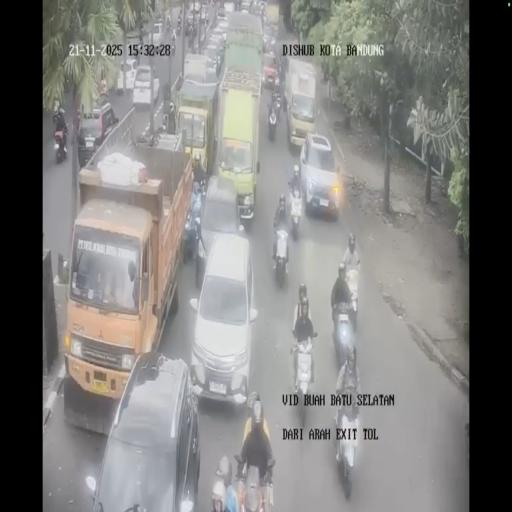car: (90, 352, 200, 509), (188, 233, 258, 406), (196, 172, 242, 262), (300, 132, 342, 220), (77, 103, 119, 167), (132, 64, 161, 110), (203, 41, 225, 76), (262, 51, 280, 90), (118, 58, 138, 92), (144, 22, 164, 46), (214, 16, 230, 40), (263, 31, 277, 54), (199, 1, 209, 21), (189, 0, 201, 16), (217, 2, 227, 18), (240, 0, 252, 13), (258, 0, 267, 16)
motorcycle: (234, 449, 274, 510), (333, 402, 360, 492), (289, 336, 315, 422), (331, 300, 357, 372), (272, 225, 290, 286), (288, 186, 304, 238), (162, 92, 176, 132), (54, 134, 66, 164), (272, 86, 282, 119), (97, 82, 108, 105), (186, 21, 195, 47), (132, 43, 140, 67), (138, 26, 144, 52), (170, 34, 176, 56), (176, 12, 182, 31), (165, 15, 171, 33)
truck: (174, 64, 219, 181), (221, 9, 264, 82), (285, 61, 318, 152), (265, 3, 280, 33)
